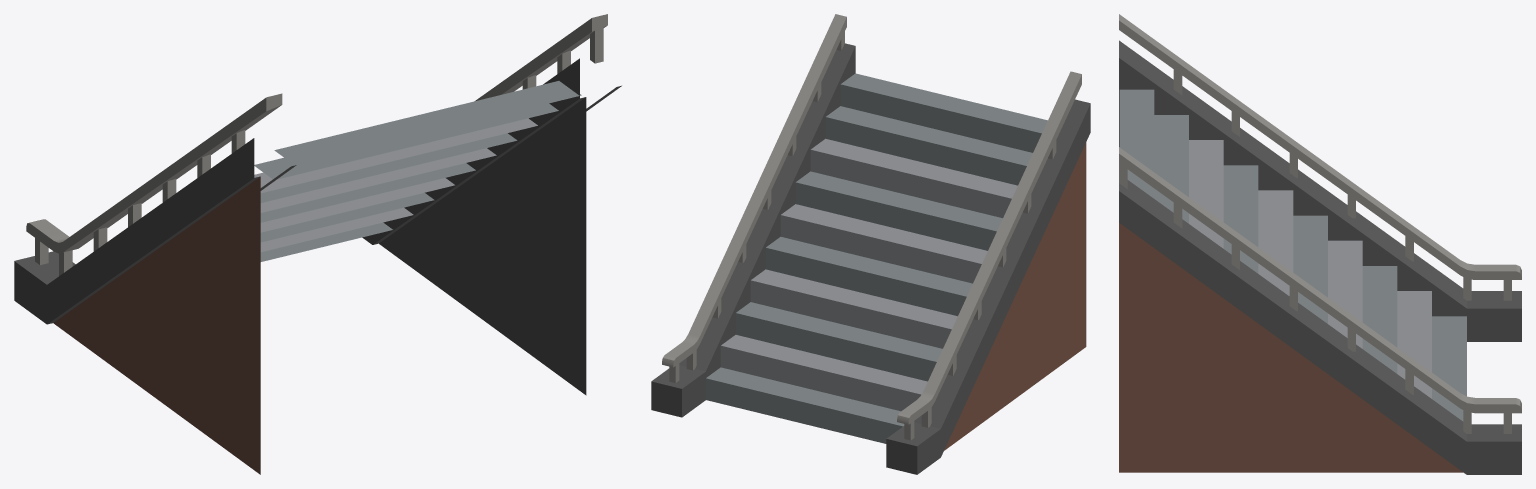
3 renders of one model, left to right at view 1: azimuth 30°, elevation 25°; view 2: azimuth 150°, elevation 25°; view 3: azimuth 270°, elevation 25°, orthographic. The views are drawn at different scales.
Visible parts, largest first — view 1: SM_StairCase:SM_StairCase1; view 2: SM_StairCase:SM_StairCase1; view 3: SM_StairCase:SM_StairCase1.
Boxes of the visible parts, left/top/right/bottom form: SM_StairCase:SM_StairCase1: left=14, top=14, right=621, bottom=474; SM_StairCase:SM_StairCase1: left=651, top=14, right=1090, bottom=474; SM_StairCase:SM_StairCase1: left=1119, top=14, right=1521, bottom=474.
Size of the model in its own units: 5.13 by 5.01 by 5.8.
